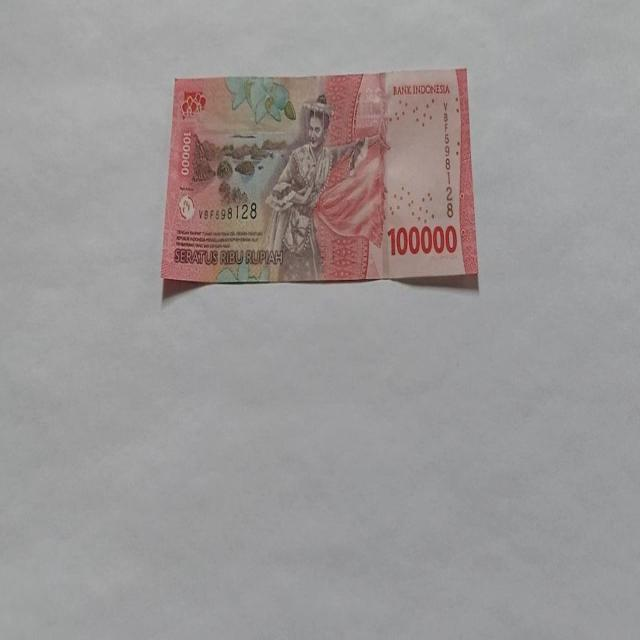Kertas: (160, 68, 478, 290), (386, 222, 458, 258)
